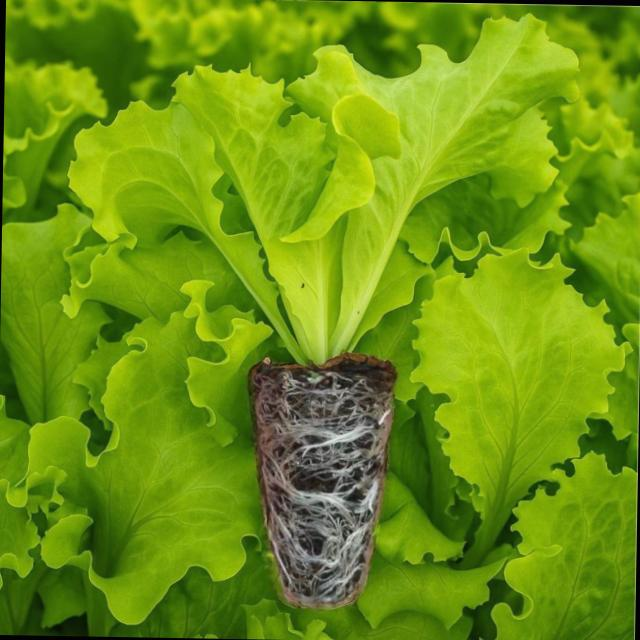verde: (68, 14, 577, 363)
